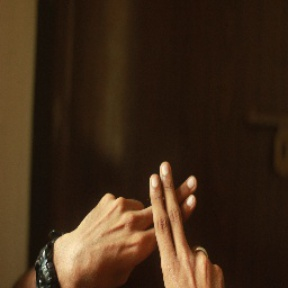F: (117, 153, 220, 274)
